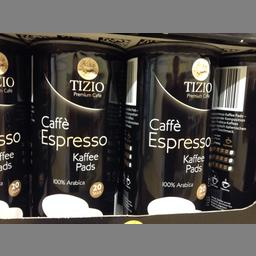coffee: (25, 37, 121, 216), (120, 42, 215, 212)
